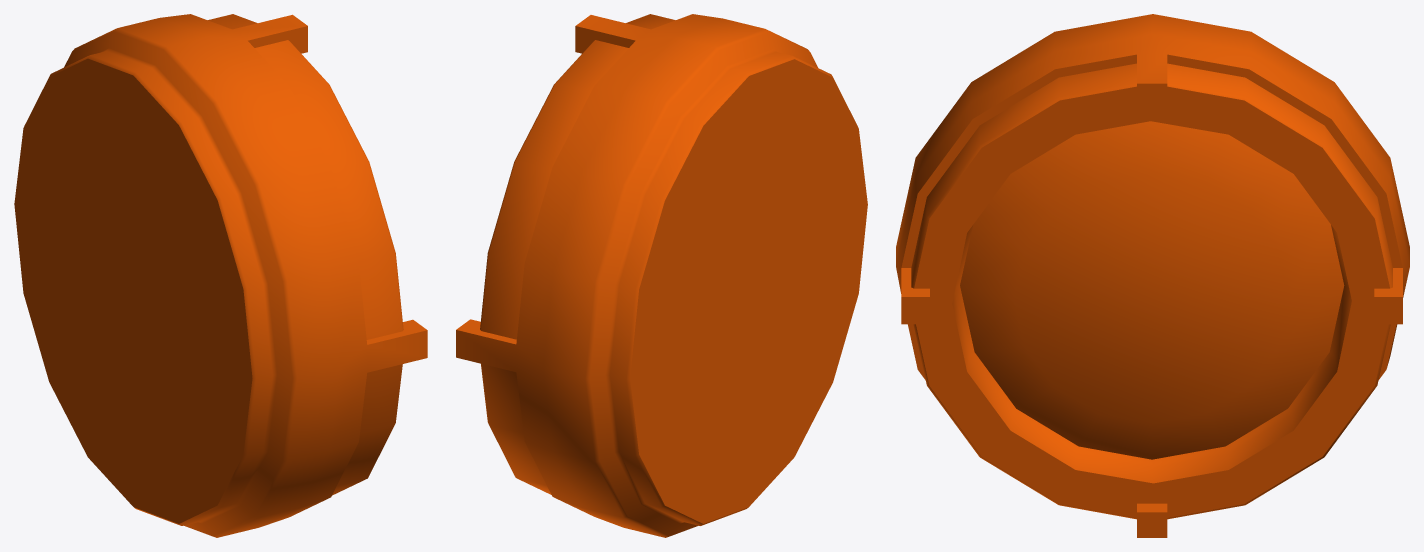
File: PVC_D160_X1.FBX
3 views of the same model, side by side, from view 1: azimuth 30°, elevation 25°; view 2: azimuth 150°, elevation 25°; view 3: azimuth 270°, elevation 25° (orthographic).
Parts seen in each view (by area): view 1: PVC_D160_X1; view 2: PVC_D160_X1; view 3: PVC_D160_X1.
Boxes of the visible parts, bbox=[...] form: PVC_D160_X1: bbox=[14, 14, 427, 537]; PVC_D160_X1: bbox=[456, 14, 867, 537]; PVC_D160_X1: bbox=[896, 14, 1409, 537].
Size of the model in its own units: 6.91 by 18.74 by 18.74.
